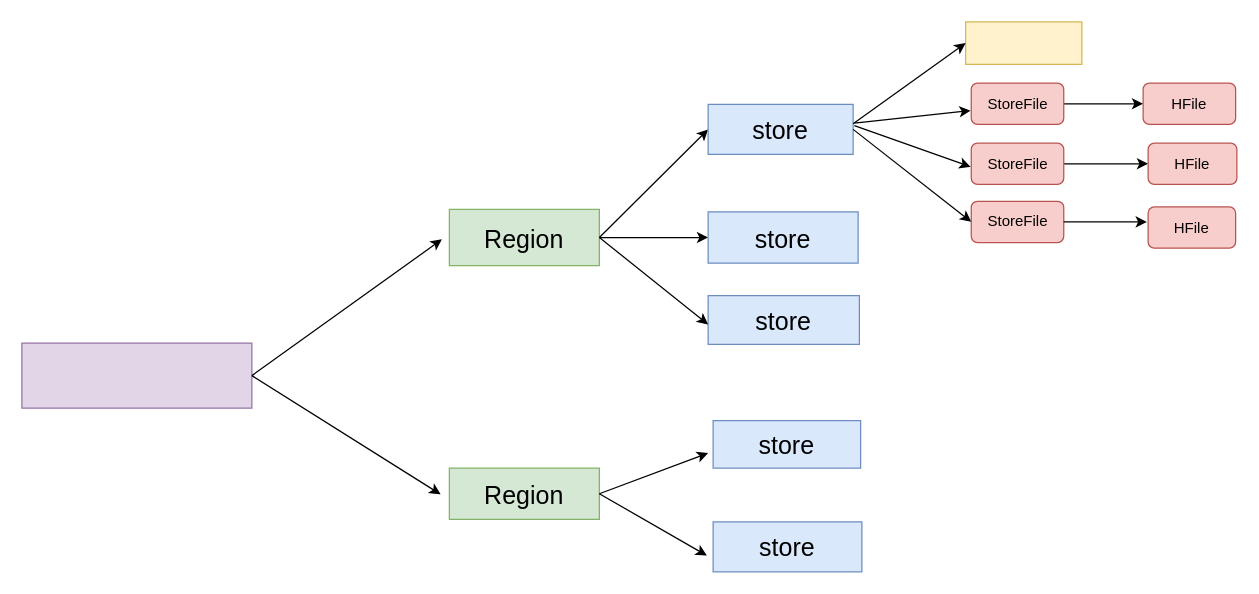
Some shapes in this 1259 by 594 pixel diagram are drawn without their labels. The shapes that lost their labels are listed below. From the top down, each one's centre as x and y in pixels, then its label:
(1023,42): memstore
(136,375): HRegionServer
